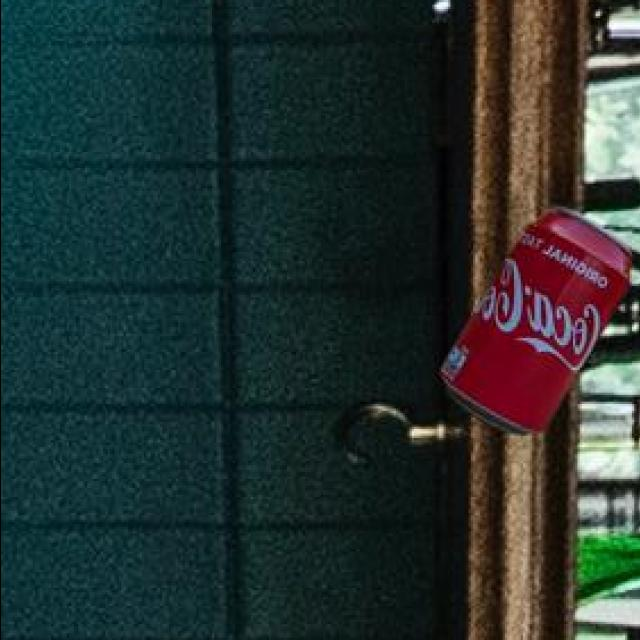logam: (444, 210, 634, 439)
